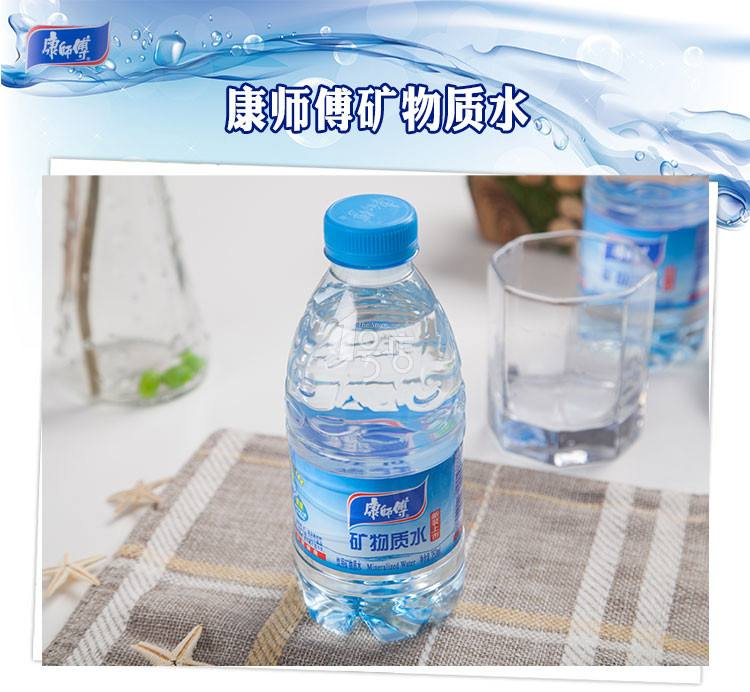amwater: (270, 182, 488, 650)
